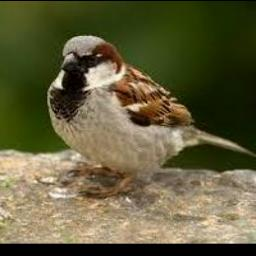Sparrow: (47, 35, 256, 199)
